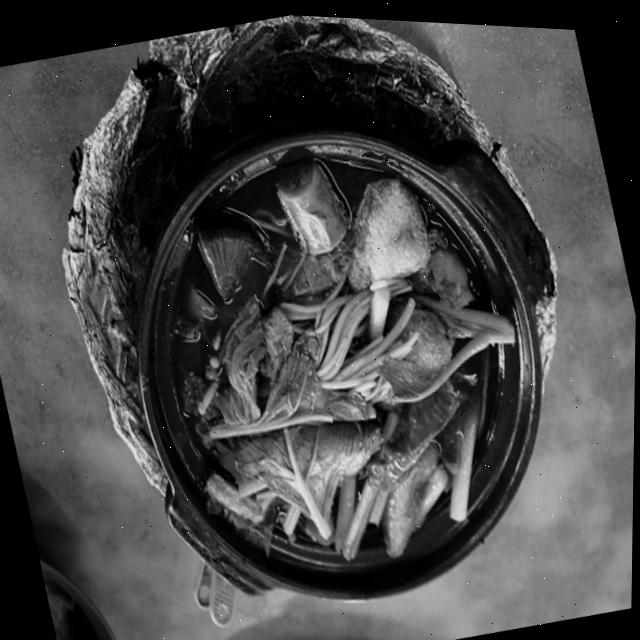汤锅炖物: (94, 72, 595, 639)
